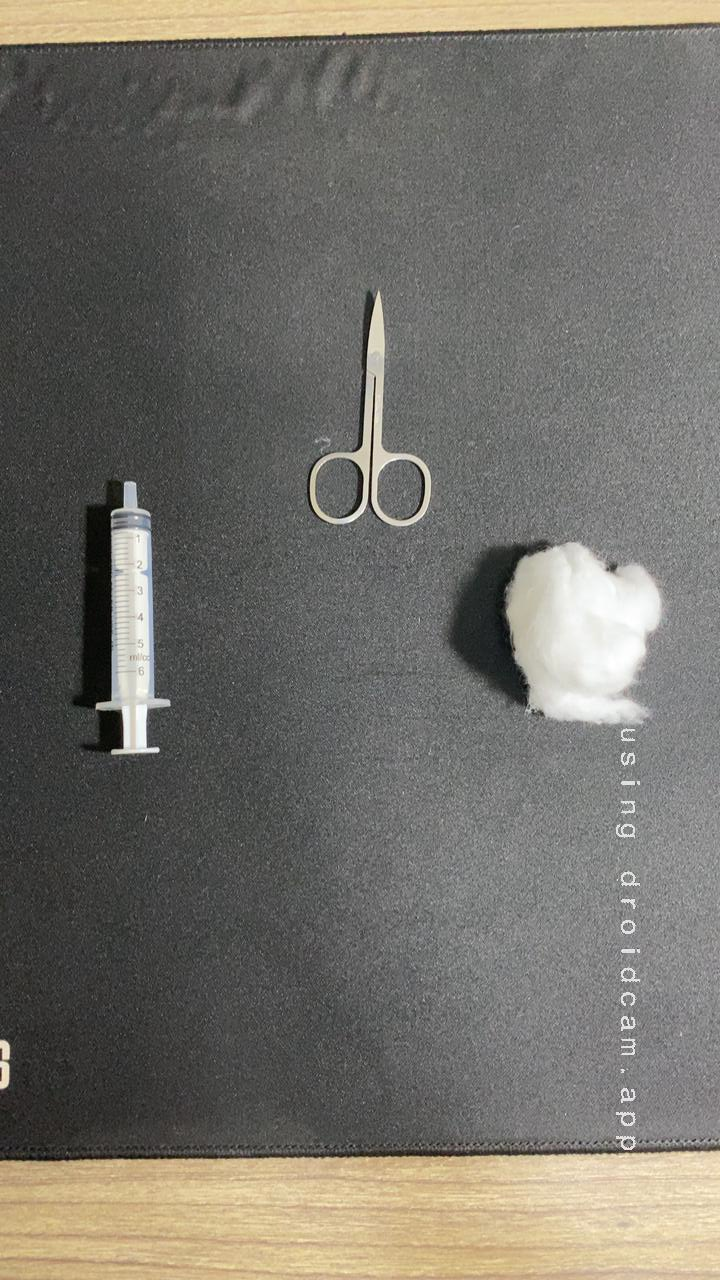cotton: (468, 520, 692, 748)
scissor: (283, 268, 455, 536)
syringe: (61, 464, 196, 774)
